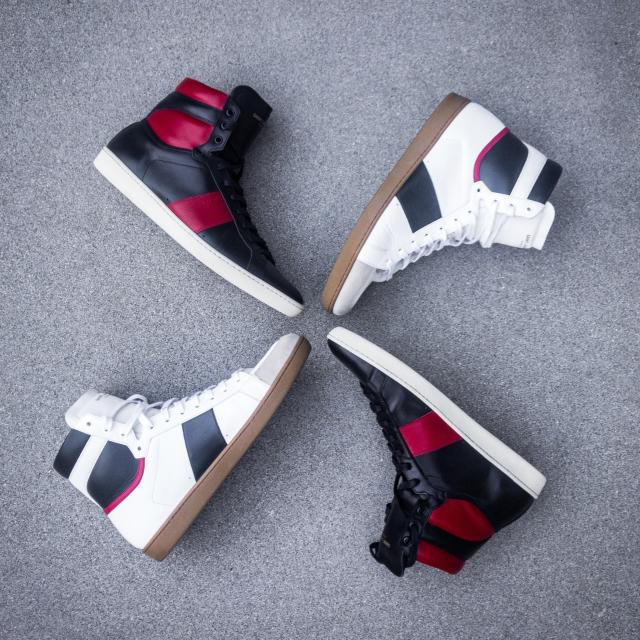shoe: (51, 331, 312, 562), (322, 325, 548, 577), (320, 88, 565, 316), (88, 76, 307, 319)
